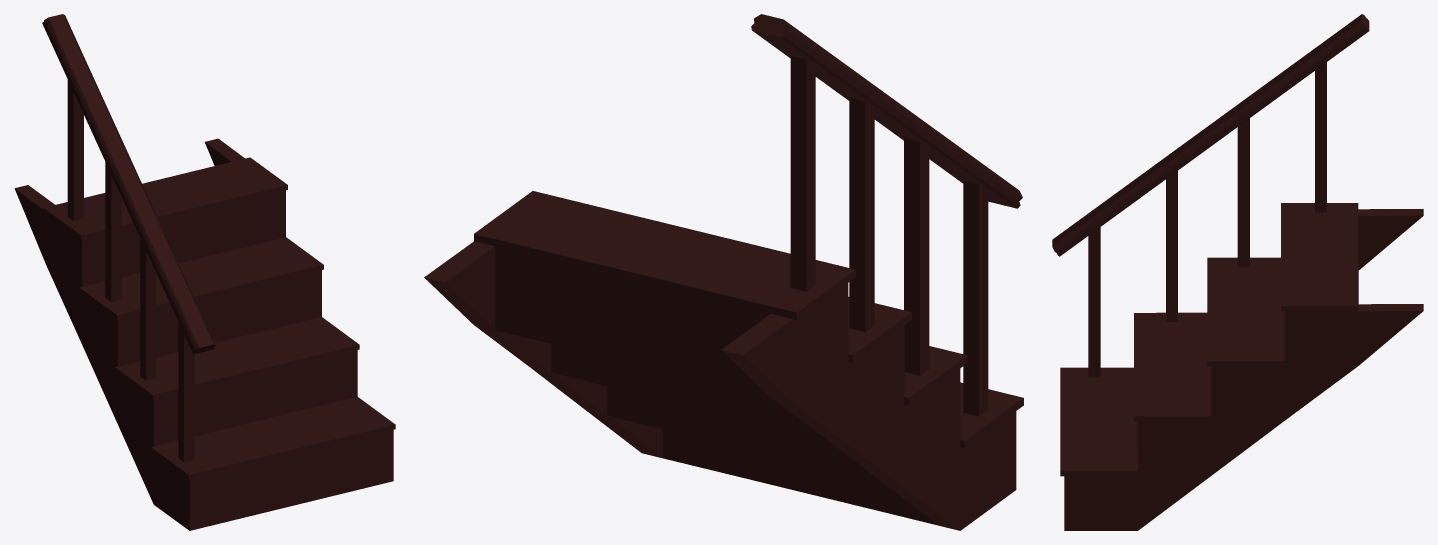
Rendered from stairs.fbx.
The picture shows the model from 3 angles, left to right: view 1: azimuth 30°, elevation 25°; view 2: azimuth 150°, elevation 25°; view 3: azimuth 270°, elevation 25°; orthographic projection. The views are drawn at different scales.
Parts seen in each view (by area): view 1: pCube9, pCube14, pCube11, pCube13, pCube10, pCube12; view 2: pCube9, pCube14, pCube13, pCube11, pCube10, pCube12; view 3: pCube9, pCube14, pCube10, pCube12, pCube11, pCube13.
Part boxes in pixels (bbox=[...]): pCube9: bbox=[14, 138, 395, 530]; pCube14: bbox=[42, 14, 215, 354]; pCube11: bbox=[140, 239, 156, 380]; pCube13: bbox=[67, 79, 83, 220]; pCube10: bbox=[178, 322, 194, 462]; pCube12: bbox=[105, 162, 121, 301]; pCube9: bbox=[424, 191, 1023, 530]; pCube14: bbox=[751, 14, 1022, 208]; pCube13: bbox=[790, 55, 815, 291]; pCube11: bbox=[904, 137, 929, 375]; pCube10: bbox=[963, 180, 988, 416]; pCube12: bbox=[849, 98, 874, 332]; pCube9: bbox=[1060, 203, 1423, 530]; pCube14: bbox=[1052, 14, 1369, 256]; pCube10: bbox=[1088, 227, 1100, 377]; pCube12: bbox=[1237, 118, 1249, 267]; pCube11: bbox=[1166, 171, 1177, 321]; pCube13: bbox=[1315, 62, 1326, 212].
Size of the model in its own units: 243 by 457 by 369.
